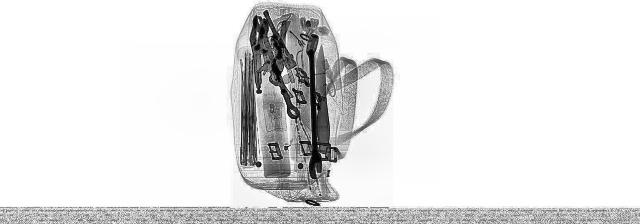Gun: (236, 10, 302, 72)
Knife: (312, 45, 328, 152)
